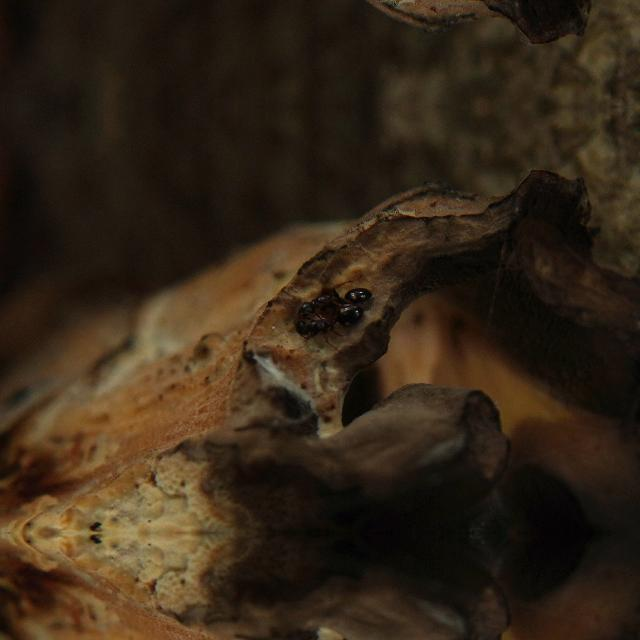Dolichoderus: (292, 300, 378, 340)
